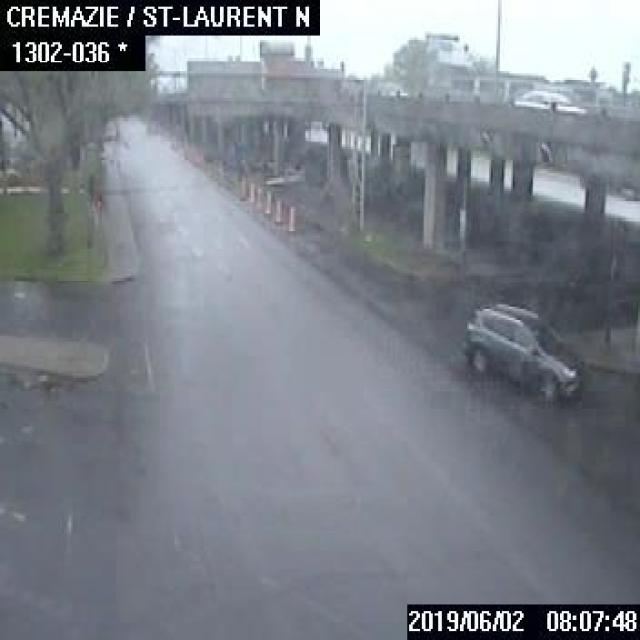construction: (285, 206, 293, 226), (247, 181, 255, 201), (239, 176, 246, 196), (255, 186, 262, 206), (263, 191, 270, 211), (273, 198, 280, 218)
vehicle: (462, 298, 585, 400), (514, 89, 580, 115), (362, 78, 410, 100)
